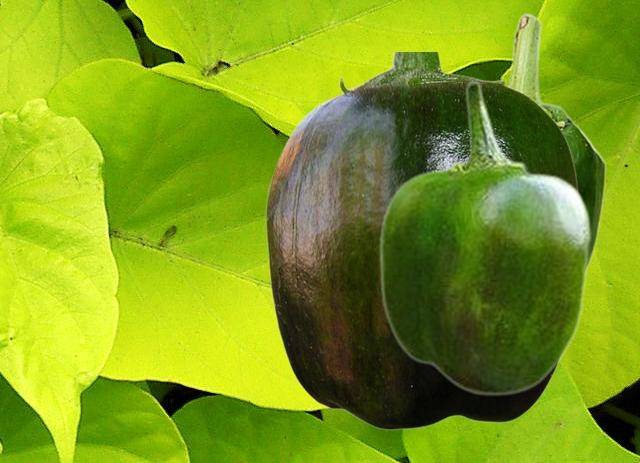bell_pepper: (265, 52, 578, 429), (378, 79, 591, 396), (507, 12, 605, 266)
